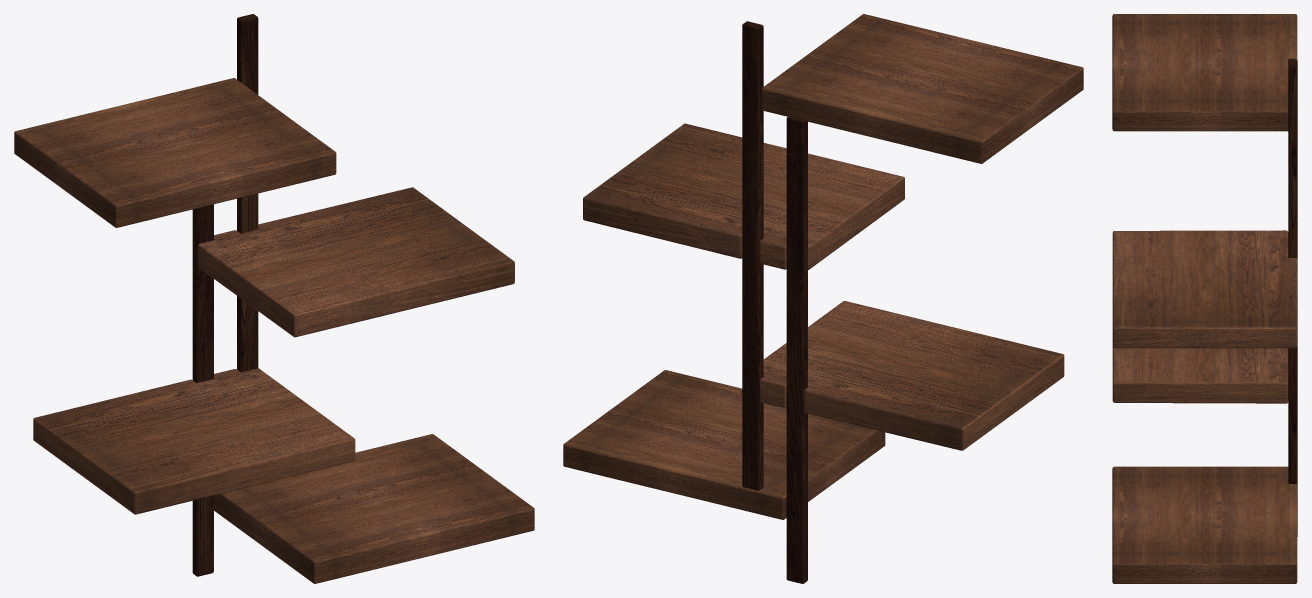
Rendered from Pflanzenregal-AR.glb.
The picture shows the model from 3 angles, left to right: view 1: azimuth 30°, elevation 25°; view 2: azimuth 150°, elevation 25°; view 3: azimuth 270°, elevation 25°; orthographic projection. The views are drawn at different scales.
Visible parts, largest first — view 1: Bretter Mitte, Brett Unten, Brett Oben, Stangen; view 2: Bretter Mitte, Brett Unten, Brett Oben, Stangen; view 3: Bretter Mitte, Brett Oben, Brett Unten, Stangen.
Part boxes in pixels (bbox=[...]): Bretter Mitte: bbox=[33, 187, 514, 514]; Brett Unten: bbox=[14, 78, 336, 227]; Brett Oben: bbox=[214, 434, 534, 583]; Stangen: bbox=[192, 14, 258, 576]; Bretter Mitte: bbox=[583, 123, 1064, 450]; Brett Unten: bbox=[761, 14, 1083, 163]; Brett Oben: bbox=[563, 370, 885, 519]; Stangen: bbox=[742, 21, 807, 583]; Bretter Mitte: bbox=[1112, 230, 1297, 403]; Brett Oben: bbox=[1112, 466, 1297, 583]; Brett Unten: bbox=[1112, 14, 1297, 131]; Stangen: bbox=[1288, 58, 1297, 536].
Bounding box in the file's own units: 0.474 × 0.5889 × 0.2003.
Materials: 2 (2 with a texture image).
